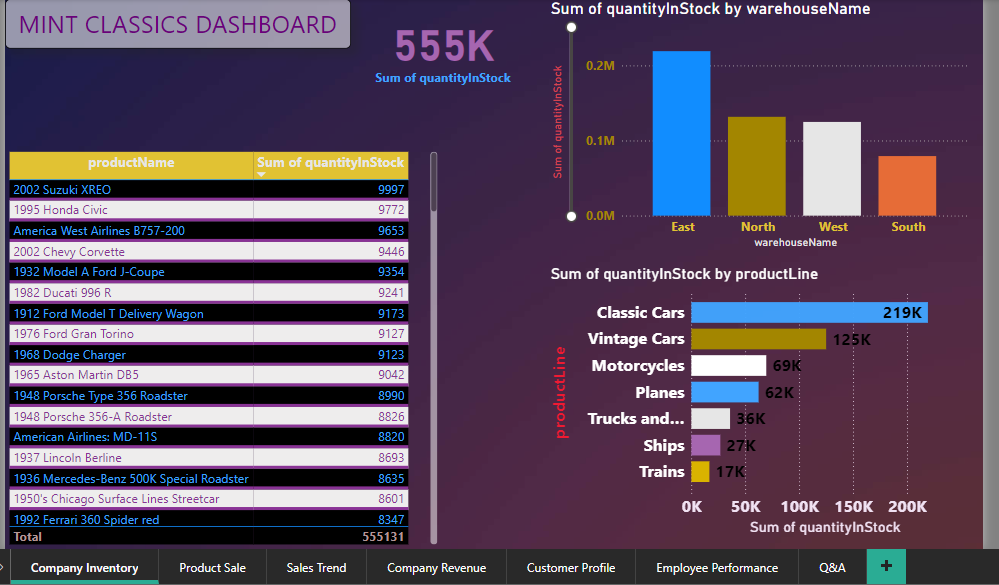

The page's visual inventory and layout, read from the dashboard file:
{"tool":"powerbi","page":{"name":"Company Inventory","canvas":[1280,720],"ordinal":0},"visuals":[{"type":"columnChart","fields":{"Category":["mintclassics warehouses.warehouseName"],"Y":["Sum(mintclassics products.quantityInStock)"]},"box":[709.5,0,557.2,331.6],"z":0},{"type":"clusteredBarChart","fields":{"Category":["mintclassics products.productLine"],"Y":["Sum(mintclassics products.quantityInStock)"]},"box":[709.5,346.6,570.6,360],"z":1000},{"type":"tableEx","fields":{"Values":["mintclassics products.productName","Sum(mintclassics products.quantityInStock)"]},"box":[0,195.7,570.6,524.3],"z":2000},{"type":"card","fields":{"Values":["Sum(mintclassics products.quantityInStock)"]},"box":[452.6,0,241,129.3],"z":3000},{"type":"textbox","box":[0,0,452.6,64.7],"z":4000}]}

Visuals, with their boxes on the page's 1280x720 design canvas (x1, y1, x2, y2). These are canvas units, not pixel positions in the 999x585 screenshot, which may show the page scaled, cropped or inside an application window:
columnChart - mintclassics warehouses.warehouseName x Sum(mintclassics products.quantityInStock): box=[710, 0, 1267, 332]
clusteredBarChart - mintclassics products.productLine x Sum(mintclassics products.quantityInStock): box=[710, 347, 1280, 707]
tableEx - mintclassics products.productName x Sum(mintclassics products.quantityInStock): box=[0, 196, 571, 720]
card - Sum(mintclassics products.quantityInStock): box=[453, 0, 694, 129]
textbox: box=[0, 0, 453, 65]
